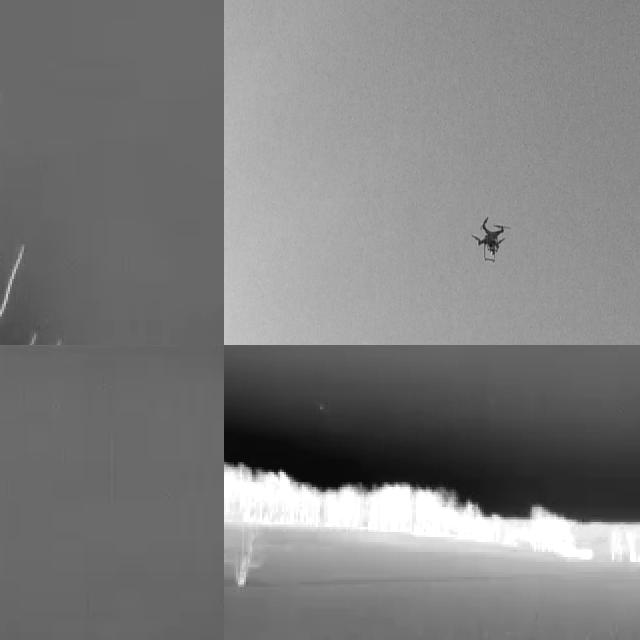0: (304, 394, 340, 430)
drone: (472, 211, 511, 262)
